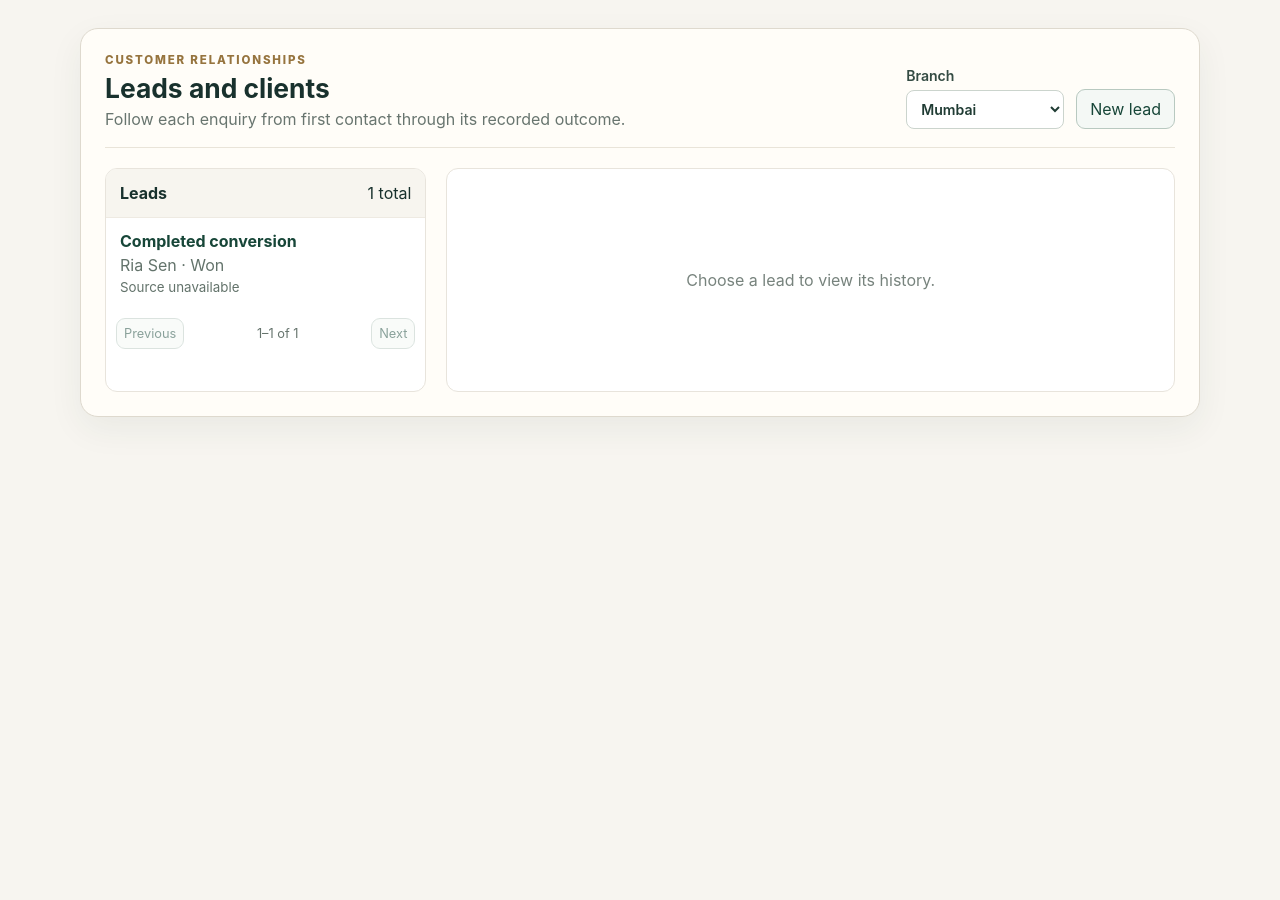
Test case: CRM workspace › hides stage mutation controls for a terminal Won lead
Click the button "Completed conversion Ria Sen · Won Source unavailable": x=208, y=241 [106,218,425,308]
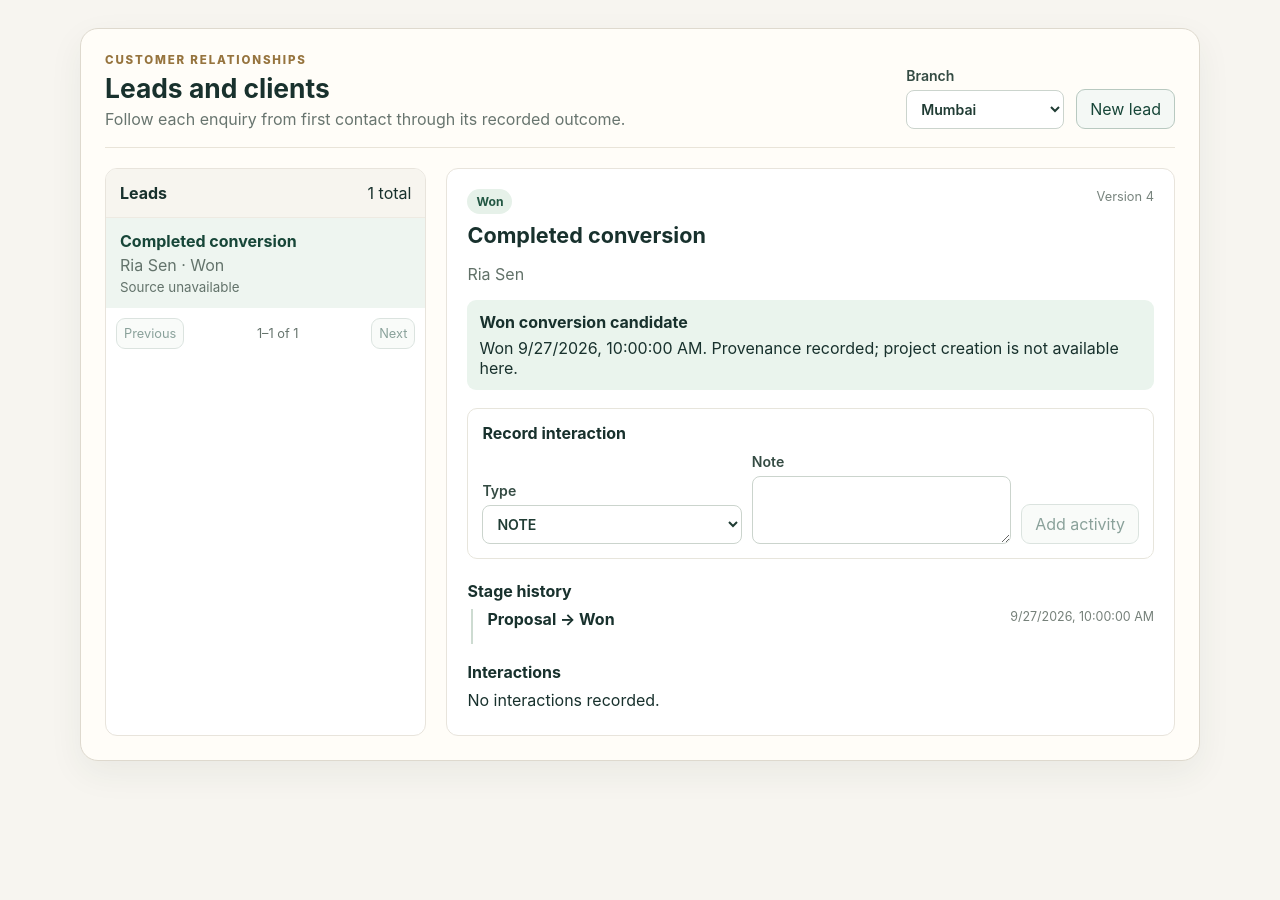
Expected: the text "Won conversion candidate" is shown, [479,312,688,332]
